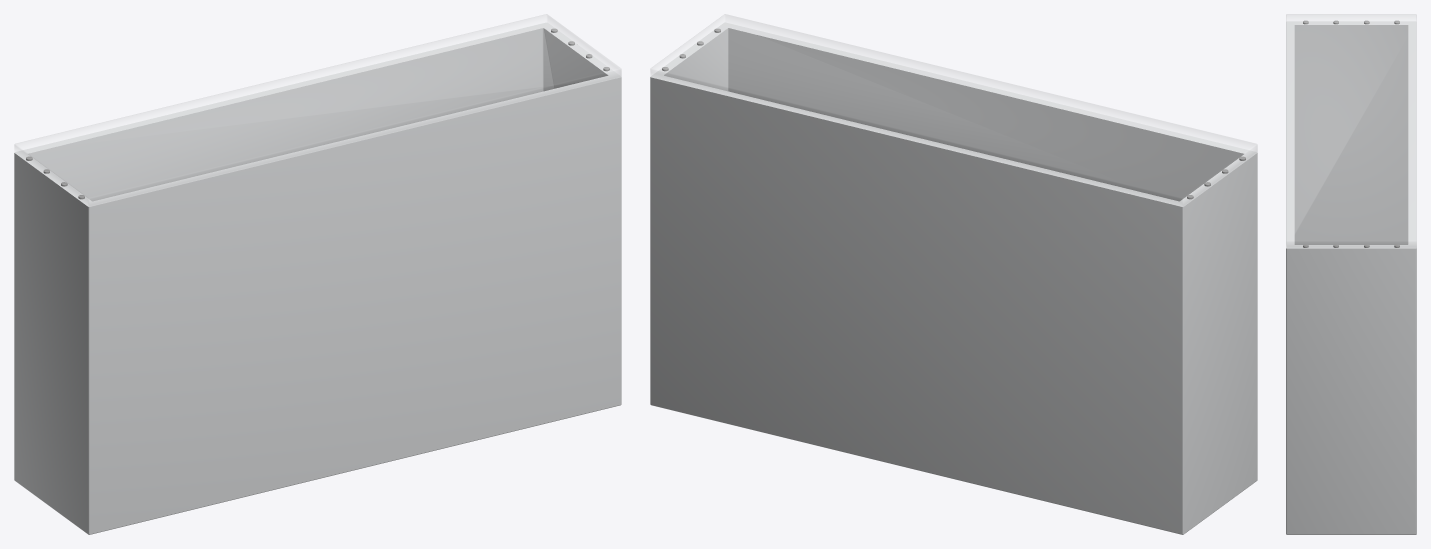
File: acrylic-case-tcg-pokemon-upc.glb
3 views of the same model, side by side, from view 1: azimuth 30°, elevation 25°; view 2: azimuth 150°, elevation 25°; view 3: azimuth 270°, elevation 25° (orthographic). The views are drawn at different scales.
Visible parts, largest first — view 1: Cube, Cube.002; view 2: Cube, Cube.002; view 3: Cube, Cube.002.
Boxes of the visible parts, <box> form: Cube: <box>14,22,621,534</box>; Cube.002: <box>14,14,621,206</box>; Cube: <box>650,22,1257,534</box>; Cube.002: <box>650,14,1257,206</box>; Cube: <box>1286,21,1416,534</box>; Cube.002: <box>1286,14,1416,247</box>.
Size of the model in its own units: 0.374 by 0.226 by 0.091.
Materials: 4 (3 with a texture image).
